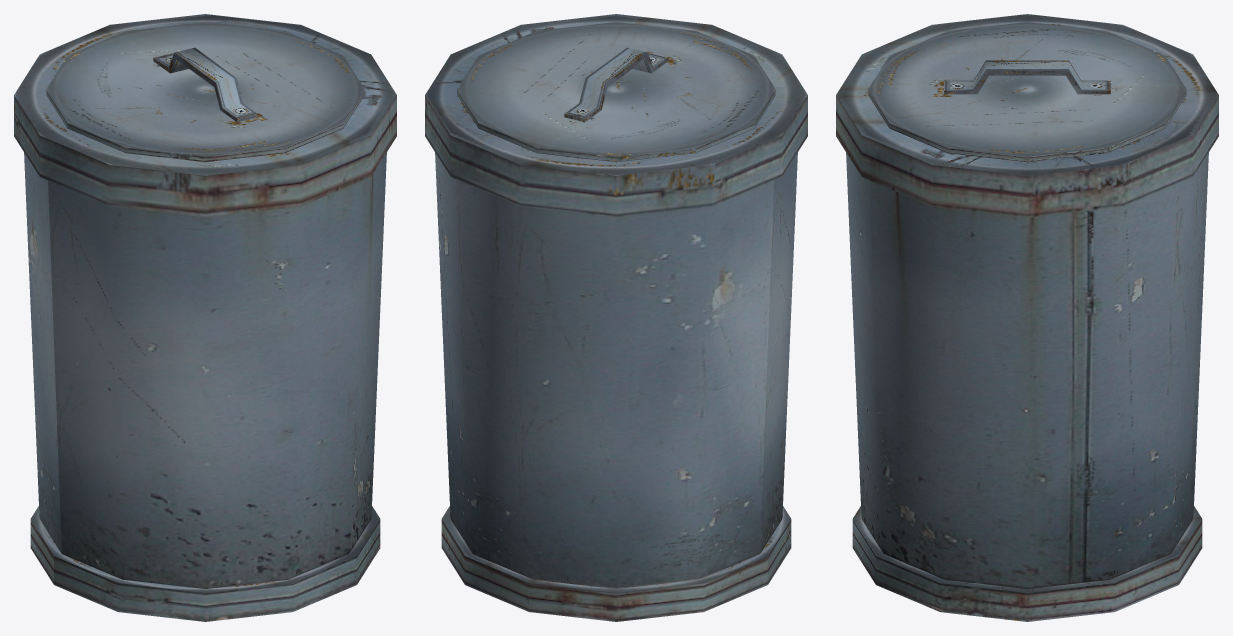
The model's file is metal_rubbish_bin.fbx.
The picture shows the model from 3 angles, left to right: view 1: azimuth 30°, elevation 25°; view 2: azimuth 150°, elevation 25°; view 3: azimuth 270°, elevation 25°; orthographic projection.
Parts seen in each view (by area): view 1: U3DMesh; view 2: U3DMesh; view 3: U3DMesh.
Boxes of the visible parts, <box> form: U3DMesh: <box>14,14,396,621</box>; U3DMesh: <box>425,14,807,621</box>; U3DMesh: <box>836,14,1218,621</box>.
Size of the model in its own units: 20.17 by 28.07 by 20.17.
